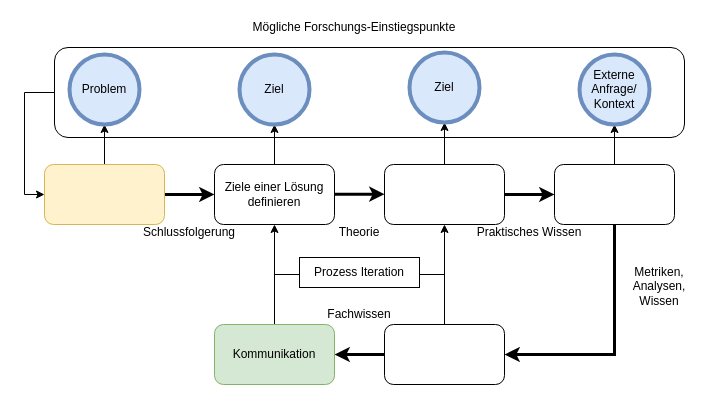
The diagram is 712 pixels wide and 402 high, and some of its shapes have lost their labels. The box of each missing label's shape, as (x1, y1, x2, y2) in pixels:
Demonstration: (554, 164, 674, 224)
Design & Entwicklung: (384, 164, 504, 224)
Evaluation: (384, 324, 504, 384)
Problem identifizieren & Motivieren: (44, 164, 164, 224)
